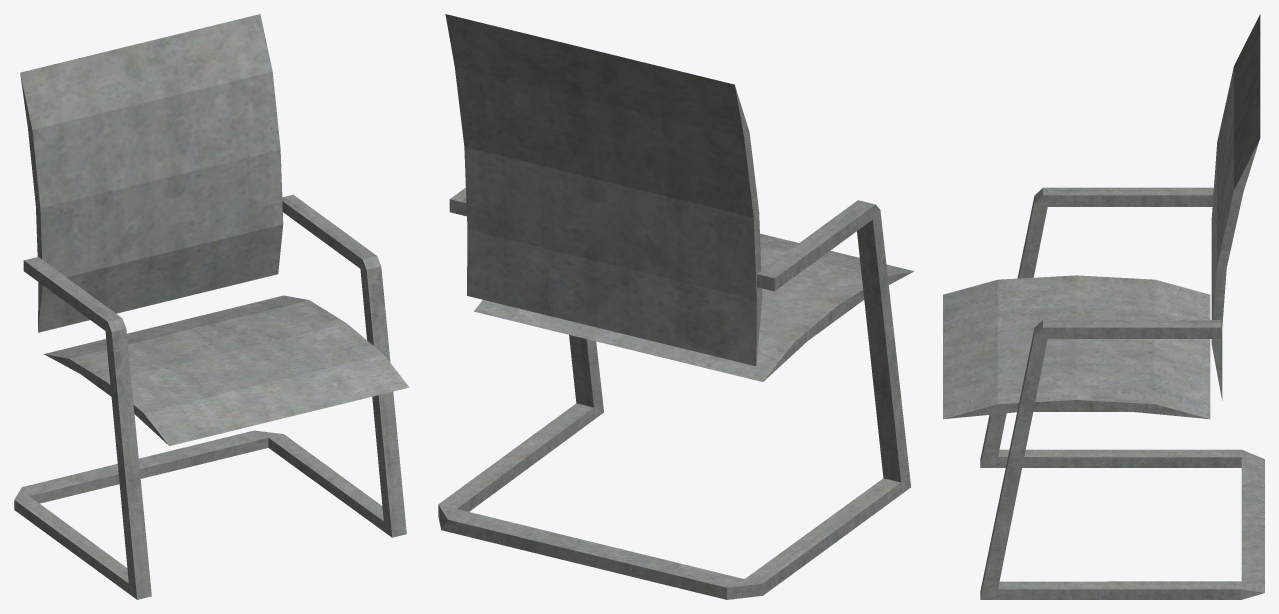
The model's file is frn_all_chair_cafe_s01_l1.fbx.
The picture shows the model from 3 angles, left to right: view 1: azimuth 30°, elevation 25°; view 2: azimuth 150°, elevation 25°; view 3: azimuth 270°, elevation 25°; orthographic projection. The views are drawn at different scales.
Parts seen in each view (by area): view 1: mesh_node; view 2: mesh_node; view 3: mesh_node.
Part boxes in pixels (left/top/right/bottom): mesh_node: left=14, top=14, right=409, bottom=599; mesh_node: left=438, top=14, right=914, bottom=599; mesh_node: left=943, top=14, right=1264, bottom=599.
Bounding box in the file's own units: 0.621 × 0.9404 × 0.6047.
